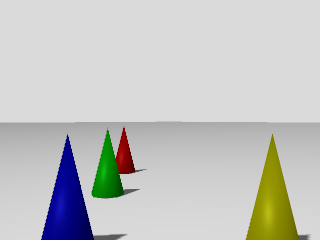blue: (39, 134, 95, 239)
green: (87, 126, 124, 198)
red: (115, 126, 137, 177)
yellow: (246, 135, 301, 240)
